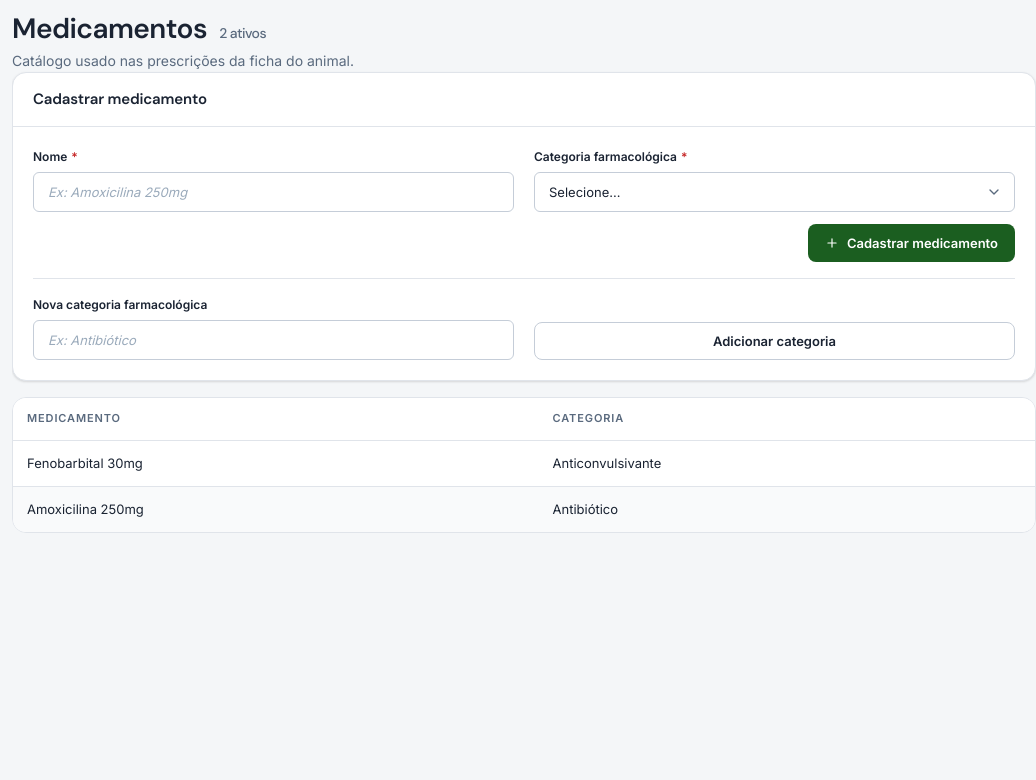
Test: Medicamentos › exige nome e categoria antes de enviar
Click the button "Cadastrar medicamento". click: (911, 243)
box: x1=808 y1=224 x2=1015 y2=262
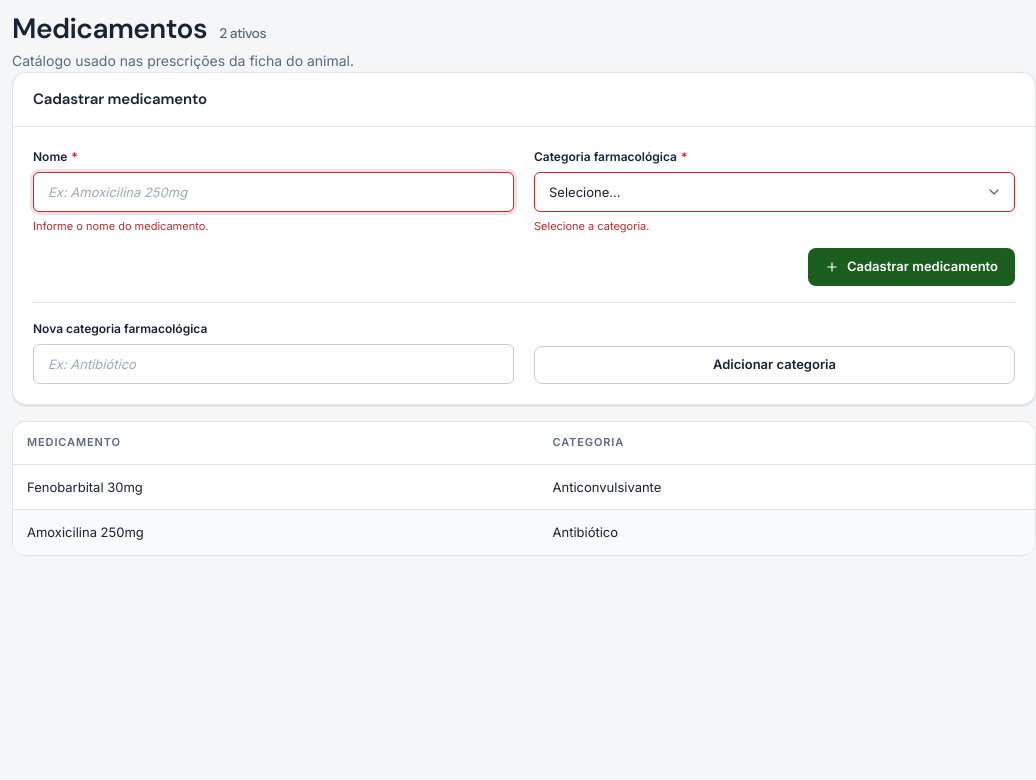
Now the text "Informe o nome do medicamento." is shown, box x1=33 y1=219 x2=208 y2=233
Now the text "Selecione a categoria." is shown, box x1=534 y1=219 x2=650 y2=233
